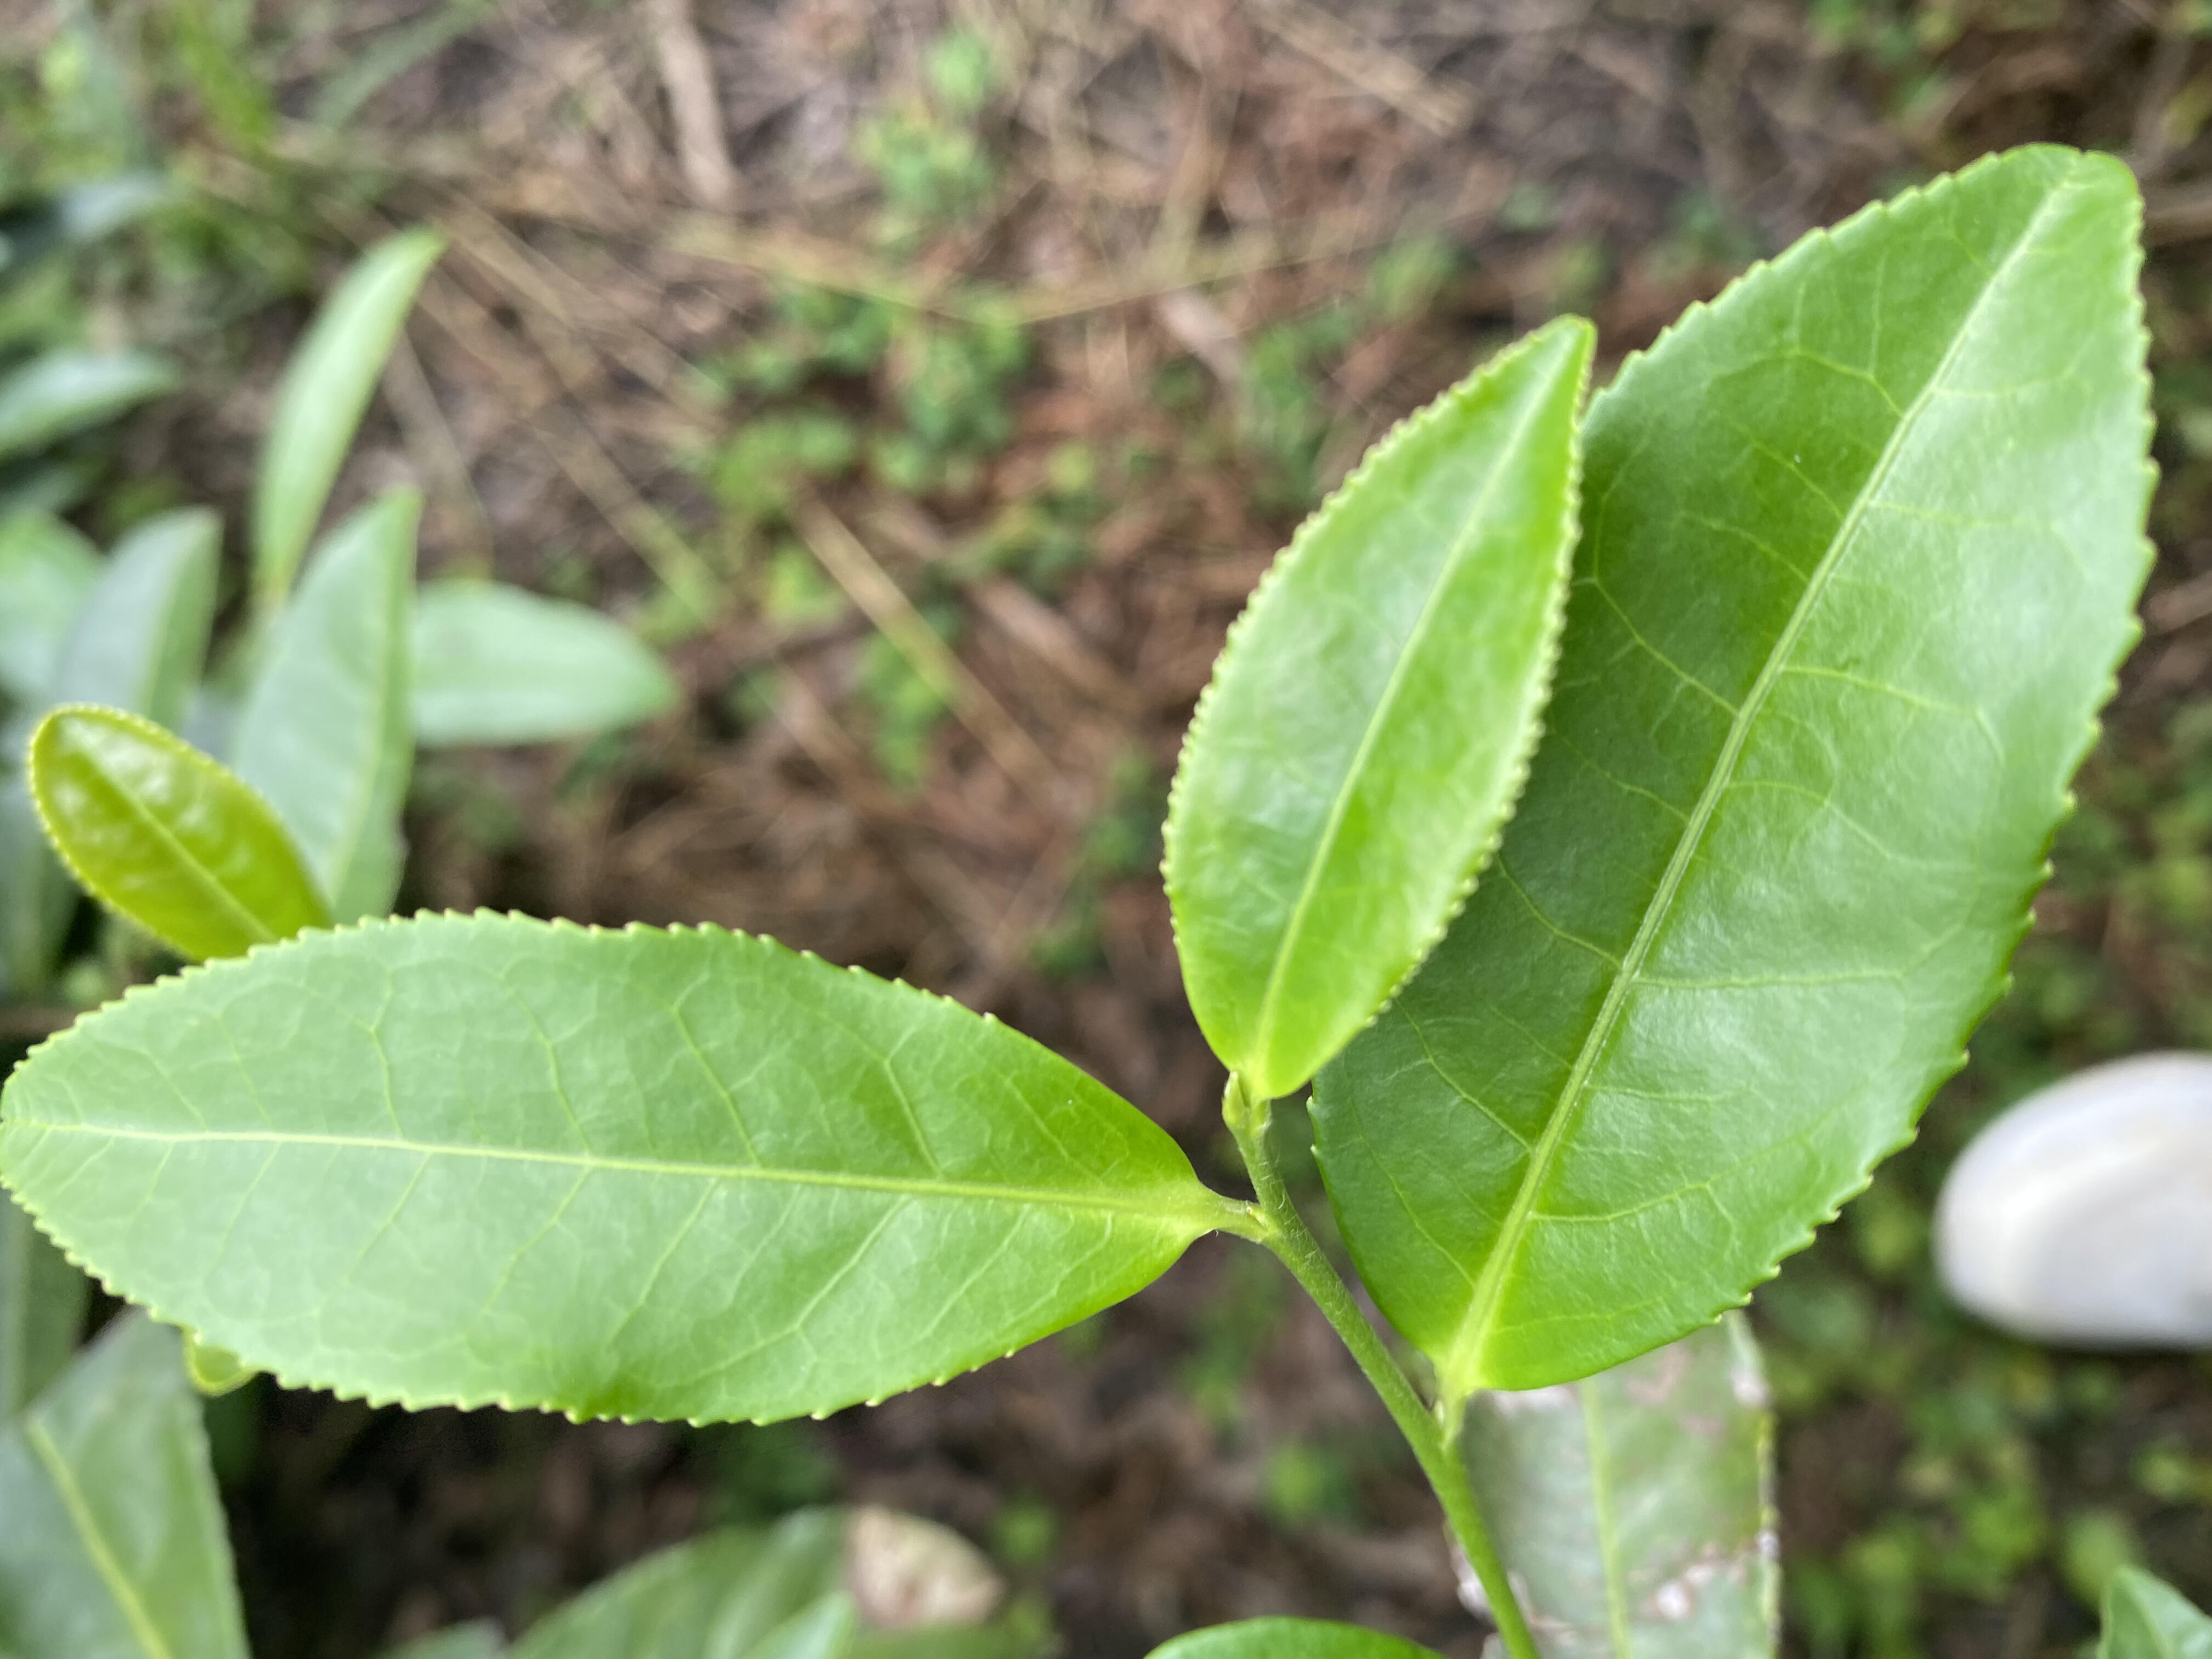healthy: (1301, 138, 2163, 1392), (0, 903, 1197, 1427), (1158, 312, 1592, 1100), (26, 702, 333, 962)
